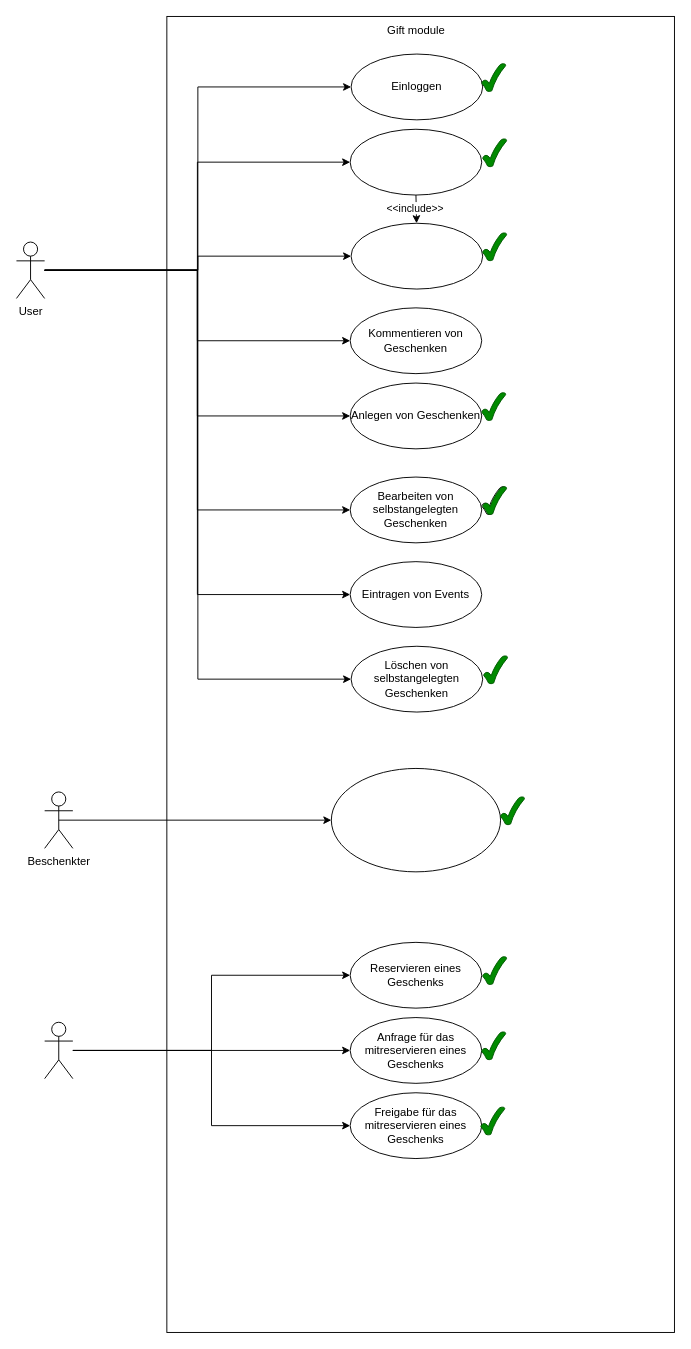
This 691x1349 diagram has some shape labels left out. The centre of each missing label's shape, as x and y in pixels:
Anlegen von Geschenkgruppen: the point at 416,255
Einladen von (befreundeten) Nutzern in Geschenkgruppe als Beschenkter: the point at 415,820
Registrieren: the point at 415,161
Schenkender: the point at 58,1050
